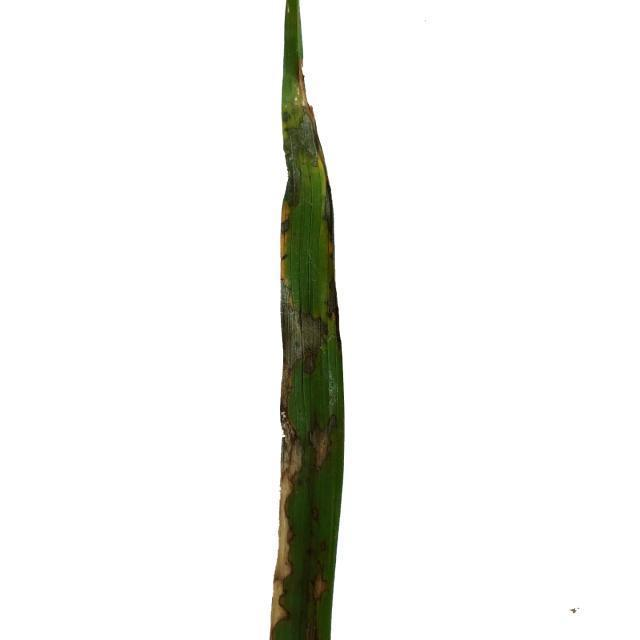Bacterial_Leaf_Blight: (273, 260, 329, 388), (282, 417, 340, 500), (278, 72, 327, 155), (271, 507, 298, 632)
